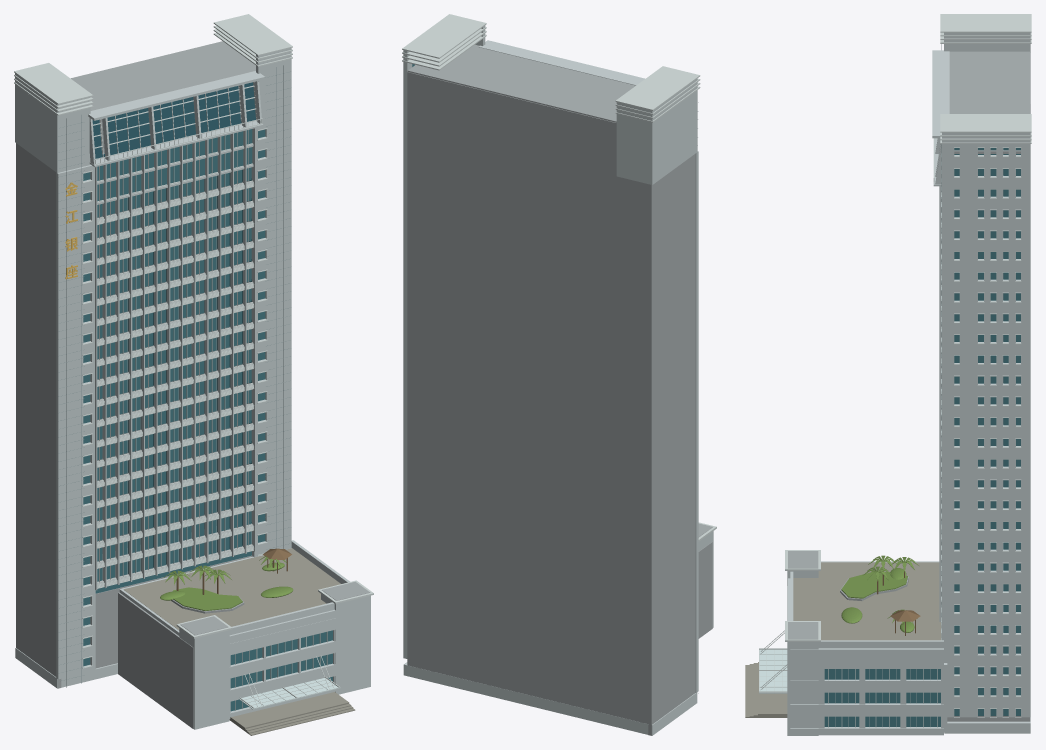
File: detail.glb
The picture shows the model from 3 angles, left to right: view 1: azimuth 30°, elevation 25°; view 2: azimuth 150°, elevation 25°; view 3: azimuth 270°, elevation 25°; orthographic projection. The views are drawn at different scales.
Parts seen in each view (by area): view 1: Front endwall panels, Curved planter rim, Endwall inset glazing, Observed canopy diagonal rod, Terrace paving surface, Recessed crown glazing, Endwall vertical panel joints, Curved planted island, Entrance canopy; view 2: Curved planter rim, Front endwall panels, Observed canopy diagonal rod; view 3: Front endwall panels, Endwall inset glazing, Terrace paving surface, Observed canopy diagonal rod, Curved planter rim, Curved planted island, Entrance canopy, Endwall vertical panel joints.
Part boxes in pixels (x1,y1,x2,y2): Front endwall panels: (15, 48, 370, 729); Curved planter rim: (16, 41, 370, 728); Endwall inset glazing: (83, 129, 332, 711); Observed canopy diagonal rod: (14, 14, 373, 710); Terrace paving surface: (123, 548, 355, 735); Recessed crown glazing: (92, 82, 255, 158); Endwall vertical panel joints: (58, 65, 291, 687); Curved planted island: (160, 555, 293, 610); Entrance canopy: (239, 678, 340, 709); Curved planter rim: (407, 44, 712, 735); Front endwall panels: (403, 25, 713, 735); Observed canopy diagonal rod: (402, 14, 716, 541); Front endwall panels: (787, 32, 1030, 735); Endwall inset glazing: (824, 148, 1020, 726); Terrace paving surface: (745, 562, 941, 717); Observed canopy diagonal rod: (759, 14, 1031, 727); Curved planter rim: (788, 51, 1030, 721); Curved planted island: (841, 555, 918, 632); Entrance canopy: (759, 649, 787, 693); Endwall vertical panel joints: (941, 44, 941, 639).
Size of the model in its own units: 30.87 by 72.11 by 31.03.
